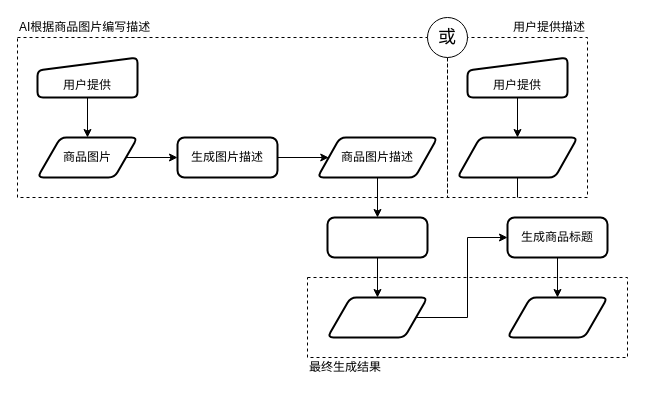
Image size: 645x395. Some labels were removed from this diagram. Each missing label, with the box of its shape:
商品描述: (326, 296, 428, 338)
商品标题: (506, 296, 608, 338)
商品特征说明: (456, 136, 578, 178)
生成商品描述: (326, 216, 428, 258)
